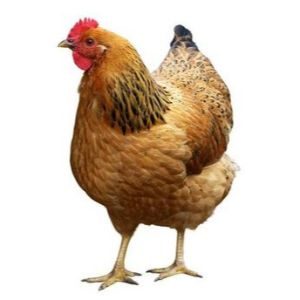hen: (52, 13, 241, 290)
